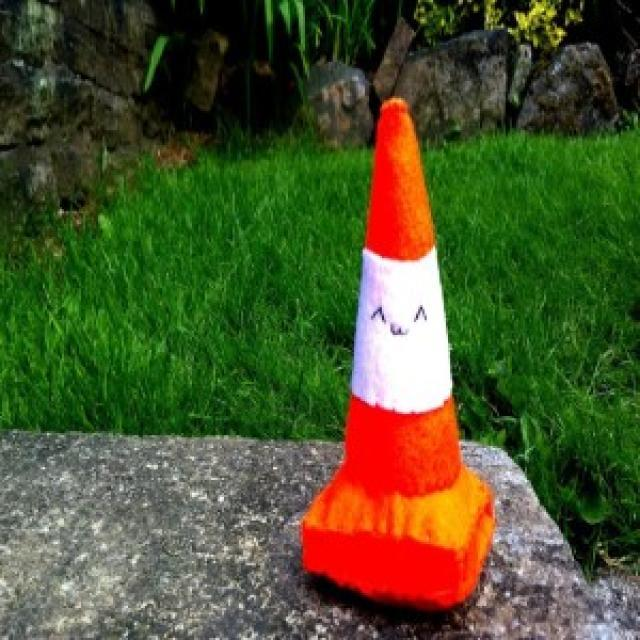traffic cone: (298, 96, 497, 612)
